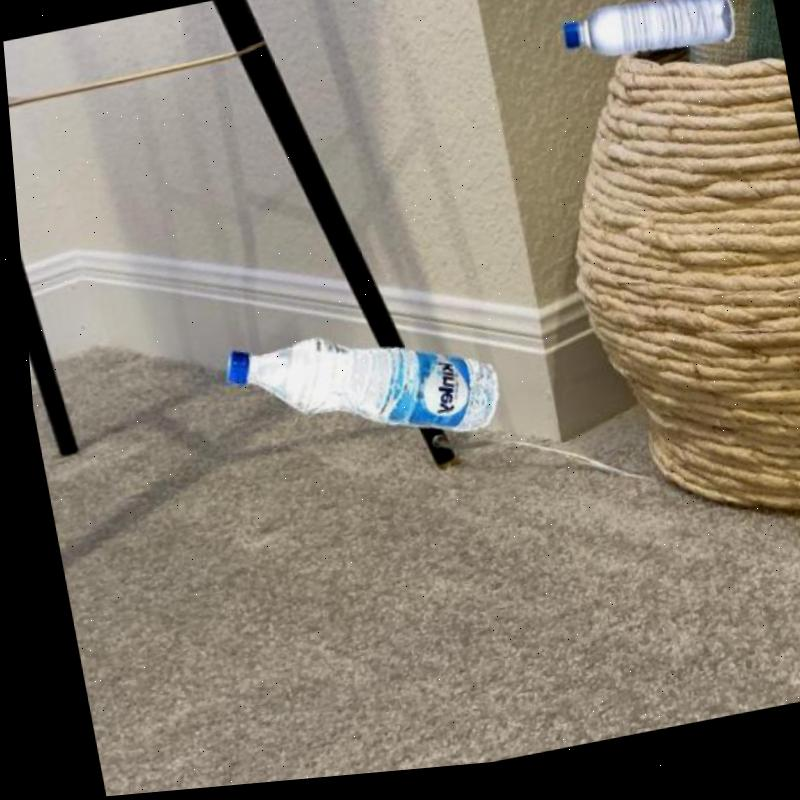botella: (211, 309, 495, 486), (552, 0, 739, 76)
